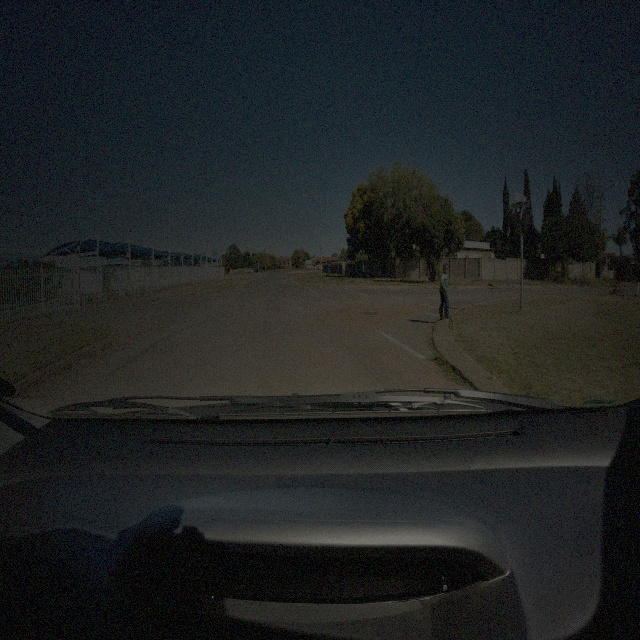pothole: (362, 310, 380, 318)
